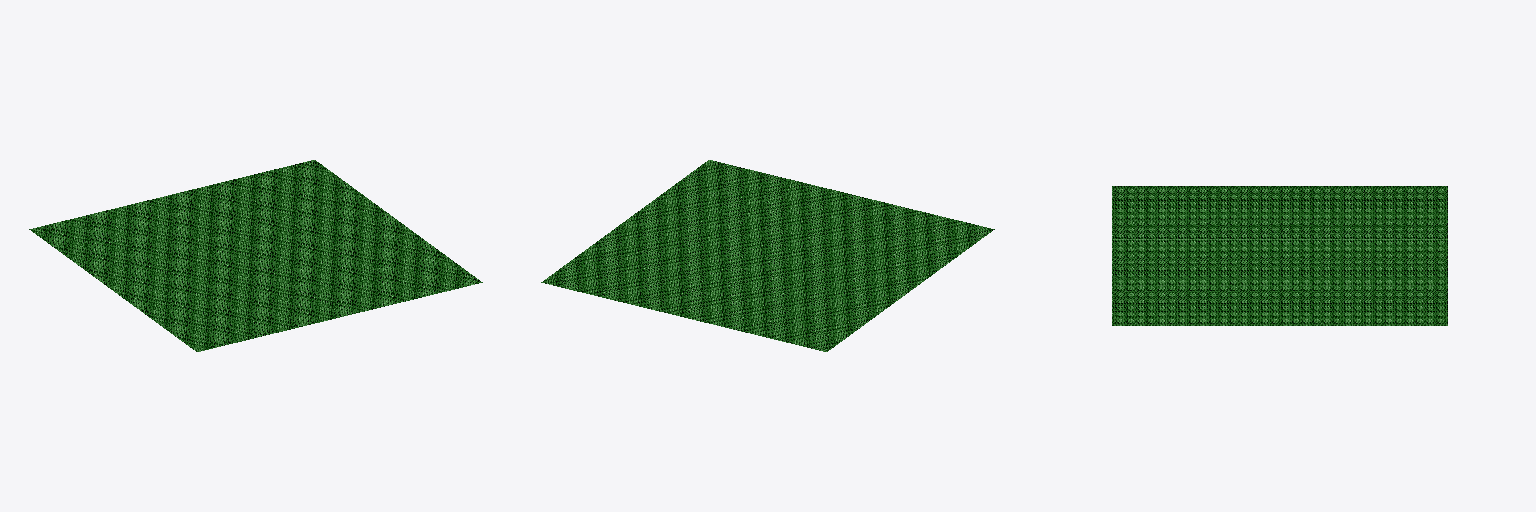
3 views of the same model, side by side, from view 1: azimuth 30°, elevation 25°; view 2: azimuth 150°, elevation 25°; view 3: azimuth 270°, elevation 25° (orthographic).
Visible parts, largest first — view 1: Plane; view 2: Plane; view 3: Plane.
Boxes of the visible parts, x1=… form: Plane: x1=29, y1=160, x2=482, y2=351; Plane: x1=541, y1=160, x2=994, y2=351; Plane: x1=1112, y1=186, x2=1447, y2=325.
Bounding box in the file's own units: 5568 × 0 × 5668.
Materials: 1 (1 with a texture image).